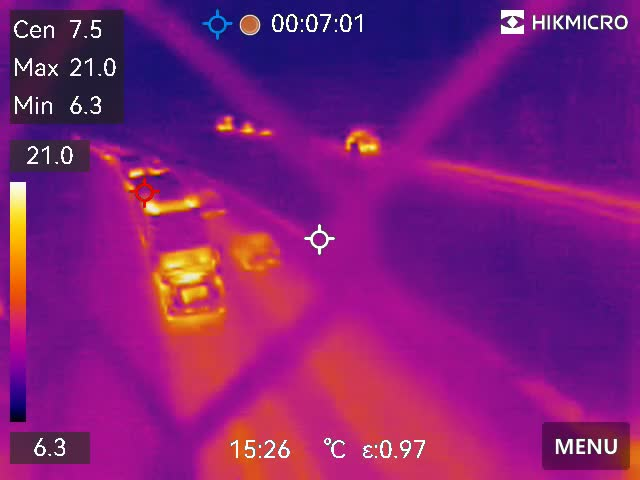heavyTruck: (132, 173, 222, 329)
